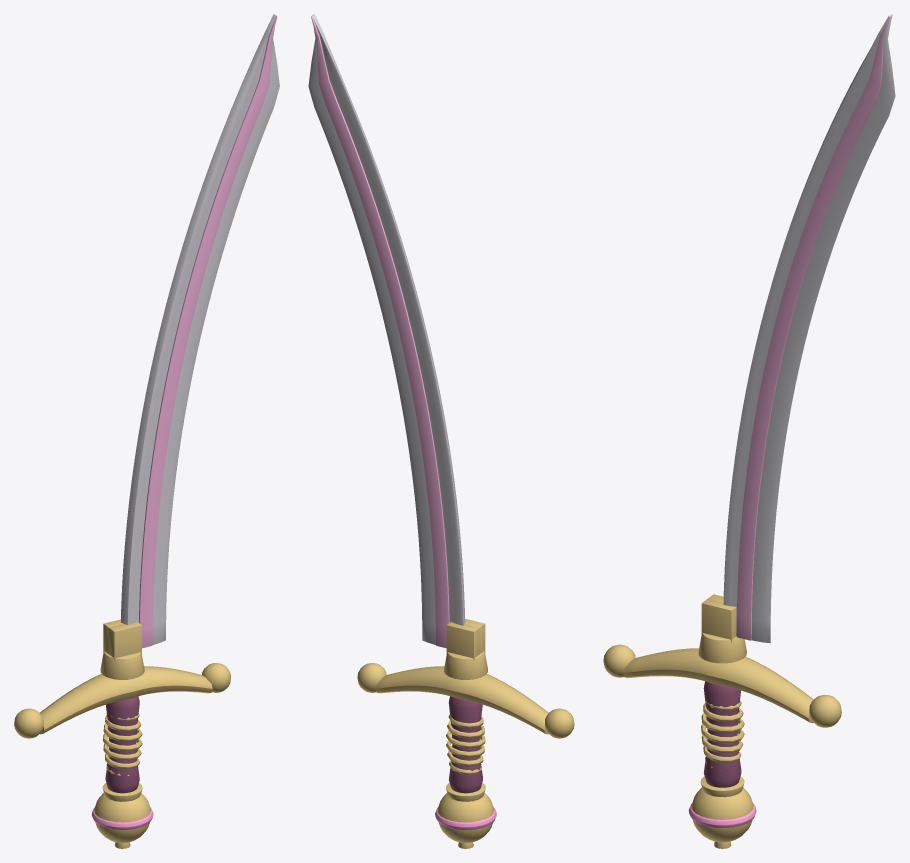
The model's file is sabre.glb.
The picture shows the model from 3 angles, left to right: view 1: azimuth 30°, elevation 25°; view 2: azimuth 150°, elevation 25°; view 3: azimuth 330°, elevation 25°; orthographic projection. The views are drawn at different scales.
Parts seen in each view (by area): view 1: sabre; view 2: sabre; view 3: sabre.
Boxes of the visible parts, bbox=[...] form: sabre: bbox=[14, 14, 279, 848]; sabre: bbox=[308, 14, 574, 848]; sabre: bbox=[603, 14, 895, 848].
Bounding box in the file's own units: 0.4233 × 1.22 × 0.0853.
